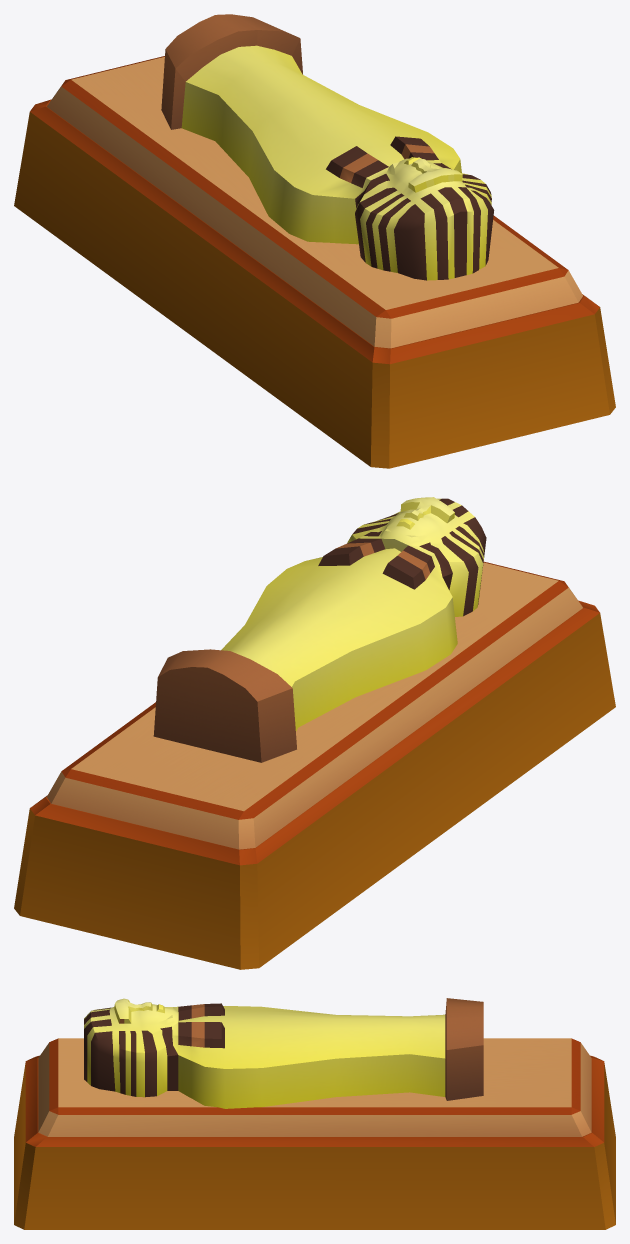
3 views of the same model, one above another, from view 1: azimuth 30°, elevation 25°; view 2: azimuth 150°, elevation 25°; view 3: azimuth 270°, elevation 25° (orthographic). The views are drawn at different scales.
Visible parts, largest first — view 1: polySurface4038.002, polySurface4038.003; view 2: polySurface4038.002, polySurface4038.003; view 3: polySurface4038.002, polySurface4038.003.
Part boxes in pixels (x1,y1,x2,y2): polySurface4038.002: [47, 14, 582, 348]; polySurface4038.003: [14, 99, 615, 468]; polySurface4038.002: [47, 497, 582, 849]; polySurface4038.003: [14, 600, 615, 969]; polySurface4038.002: [38, 998, 591, 1136]; polySurface4038.003: [14, 1055, 615, 1229].
Size of the model in its own units: 113 by 97.43 by 295.
